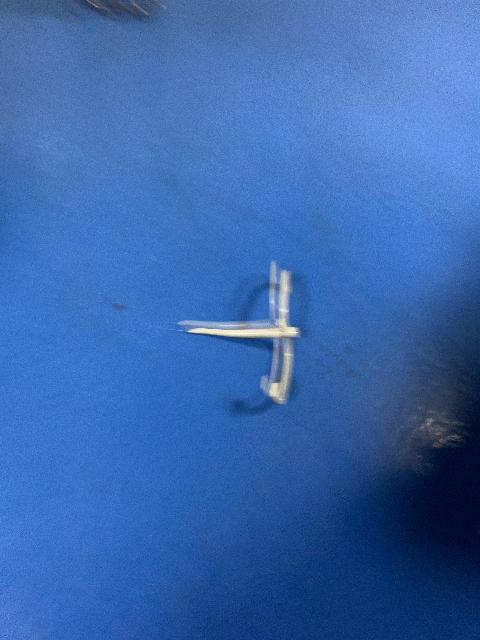Plastik: (187, 263, 319, 414)
